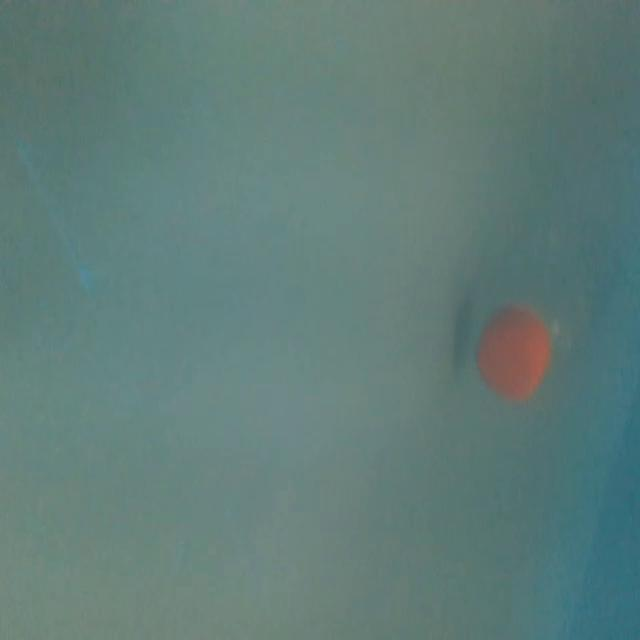plastic bottle: (469, 174, 636, 412)
